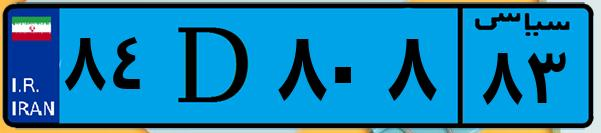0: (330, 28, 385, 110)
3: (525, 38, 570, 115)
4: (110, 28, 158, 98)
8: (270, 28, 330, 110), (385, 28, 445, 110), (57, 26, 110, 100), (475, 38, 525, 113)
D: (158, 12, 270, 120)
